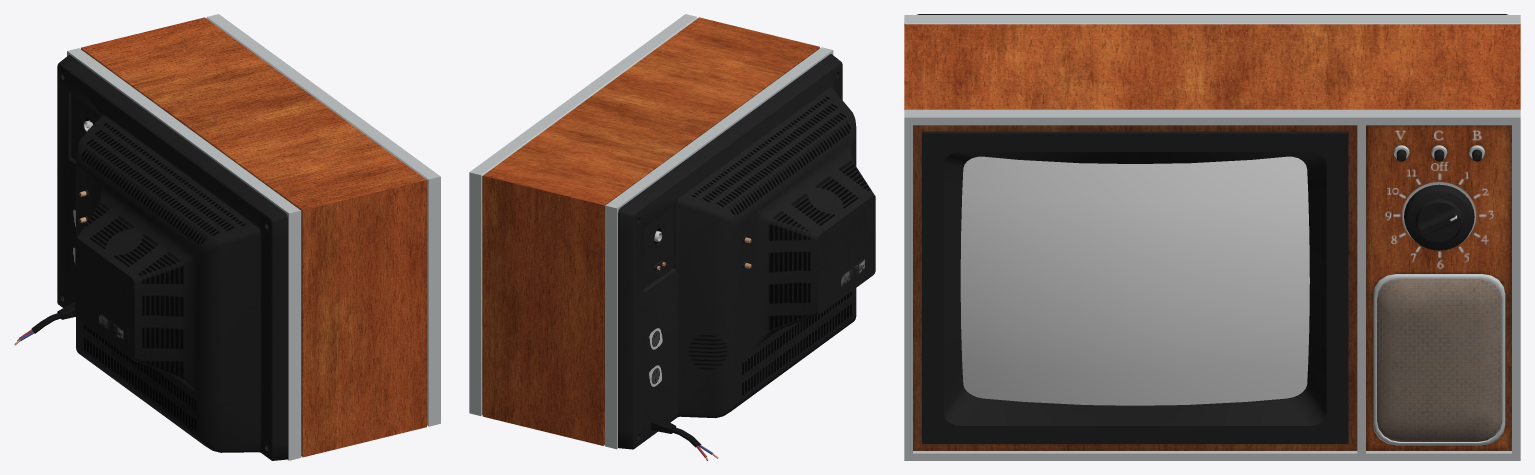
3 views of the same model, side by side, from view 1: azimuth 30°, elevation 25°; view 2: azimuth 150°, elevation 25°; view 3: azimuth 270°, elevation 25° (orthographic). The views are drawn at different scales.
Parts seen in each view (by area): view 1: Cube; view 2: Cube; view 3: Cube.
Part boxes in pixels (bbox=[...]): Cube: bbox=[14, 14, 440, 460]; Cube: bbox=[469, 14, 875, 460]; Cube: bbox=[904, 14, 1520, 460].
Size of the model in its own units: 2.83 by 2.67 by 4.17.
2 materials, 1 textured.
